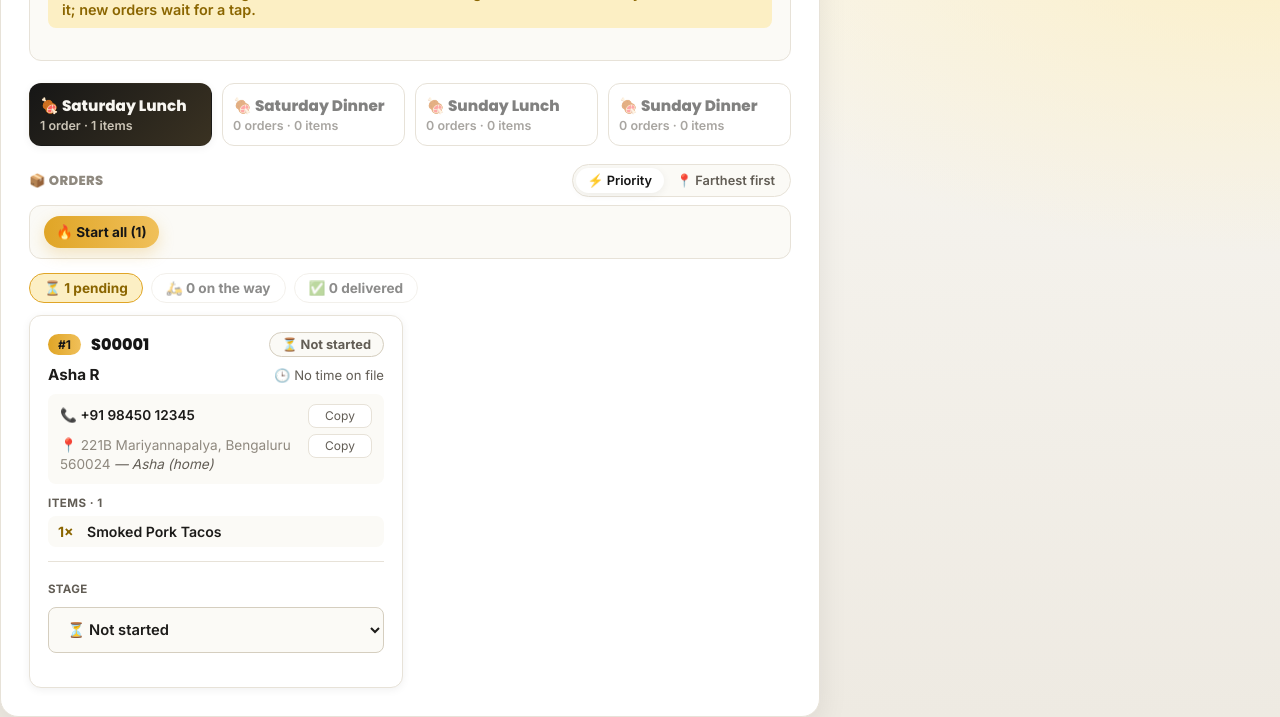
admits it when the copy did not happen
The image size is (1280, 717).
(page scrolled)
Expected: the button with class "slot-picker-btn" that starts with "Saturday Lunch" is shown, [29,83,212,146]
Step 1. Click the button with aria-label "Copy address" → (340, 446), box [308,434,372,458]
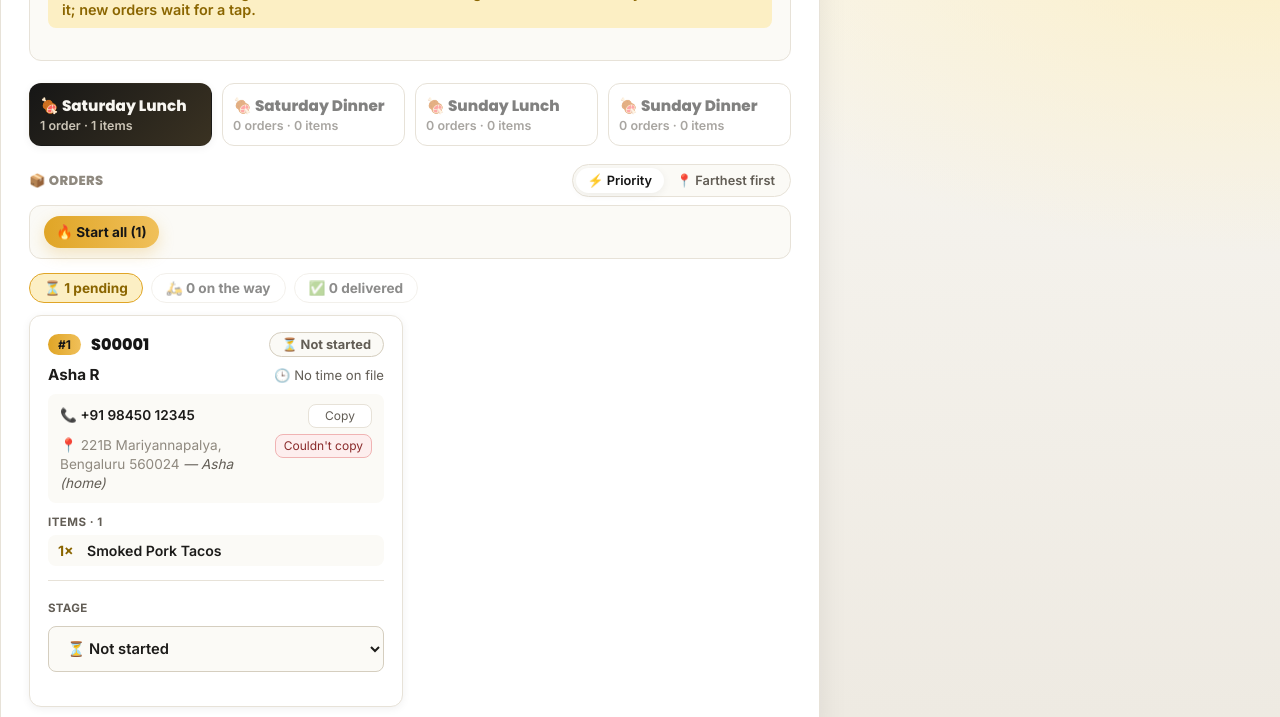
Expected: the button with aria-label "Copy address" reads "Couldn't copy", [275,434,372,458]
